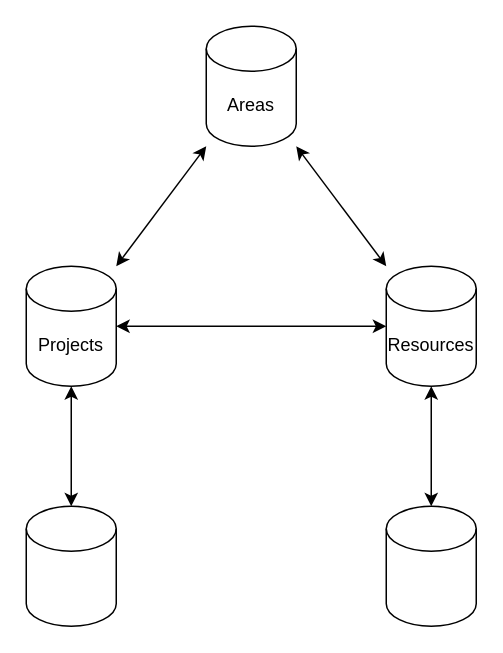
Some shapes in this 503 by 653 pixel diagram are drawn without their labels. The centre of each missing label's shape, as x and y in pixels:
"Notes" goes at point (430, 565).
"Tasks" goes at point (70, 565).
